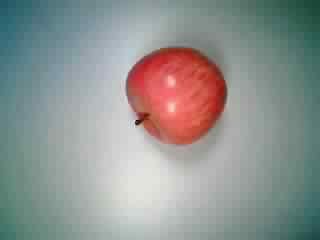apple: (121, 43, 227, 147)
